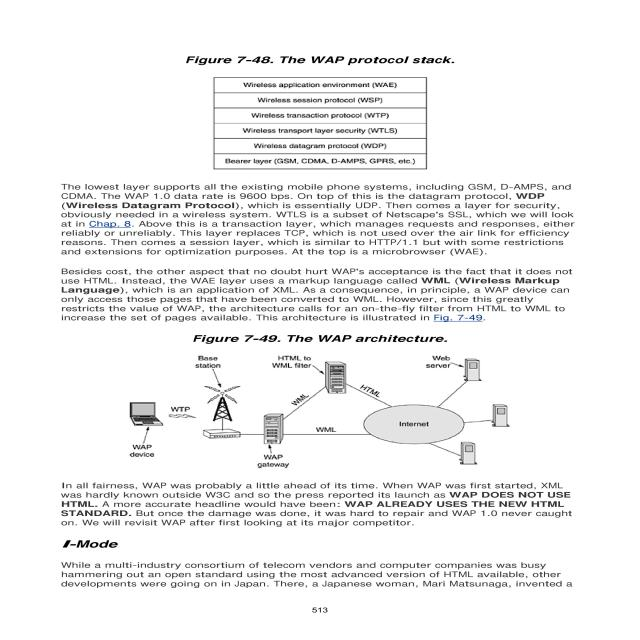diagram: (49, 324, 595, 536), (146, 51, 476, 176)
